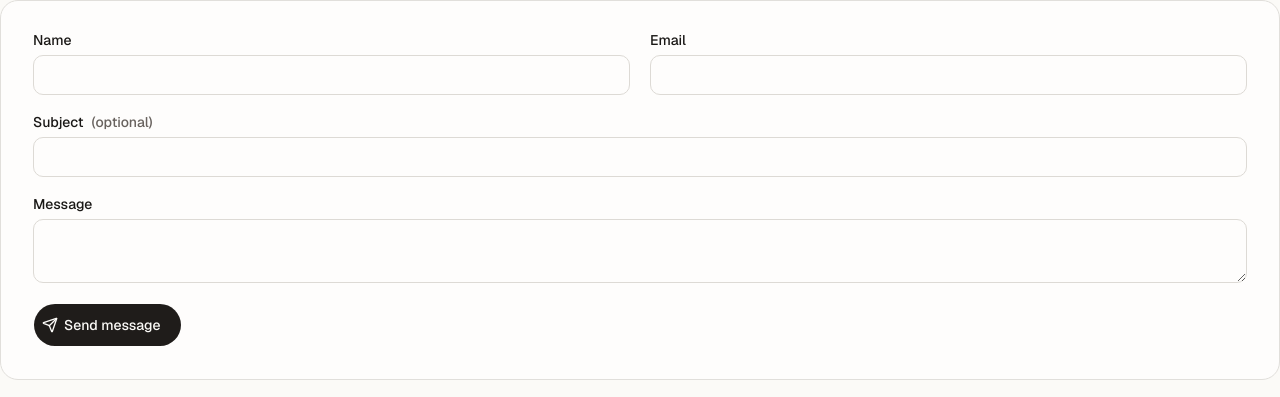
Test: ContactForm › submits valid input with the honeypot and timing fields, then confirms
The image size is (1280, 397).
Type "Jamie Doe" into the field labelled "Name".
click(332, 75); type("Jamie Doe")  # box [33, 55, 630, 95]
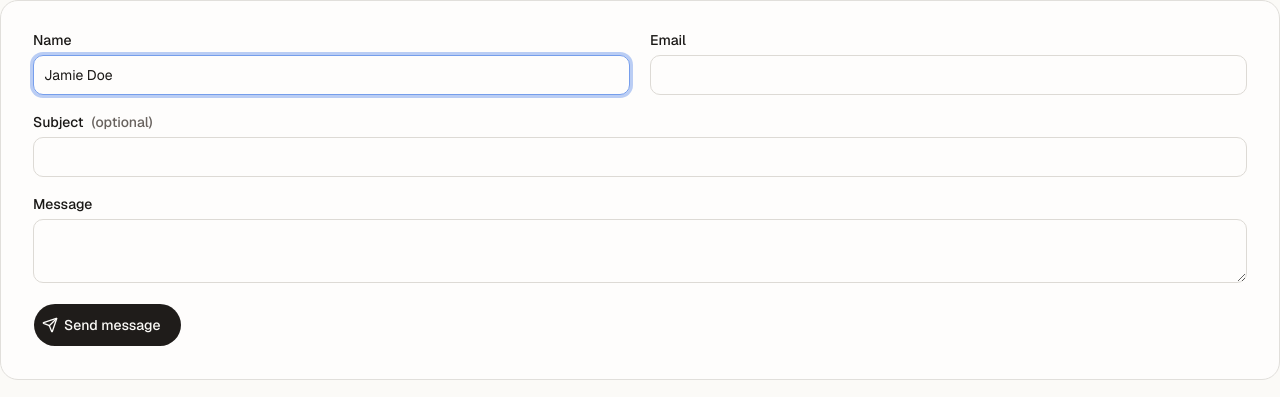
Type "jamie@example.com" into the field labelled "Email".
click(948, 75); type("jamie@example.com")  # box [650, 55, 1247, 95]
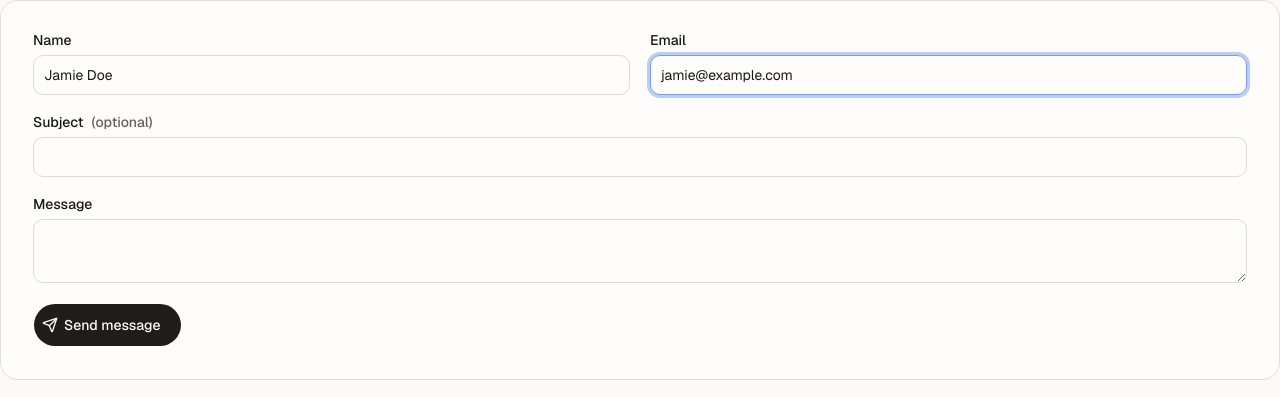
Type "I'd love to work together on a project." into the text box labelled "Message".
click(640, 251); type("I'd love to work together on a project.")  # box [33, 219, 1247, 283]
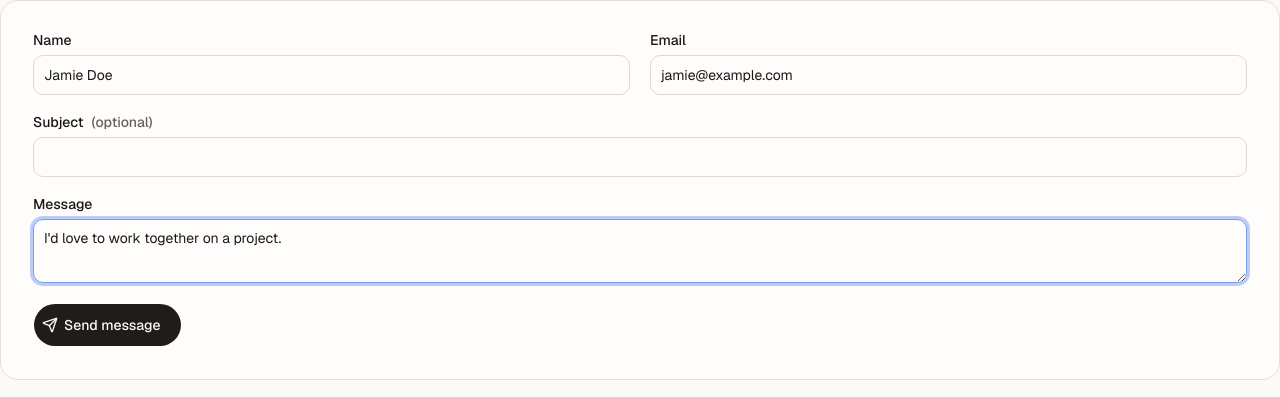
Click the button "Send message".
click(107, 325)  # box [33, 303, 182, 347]
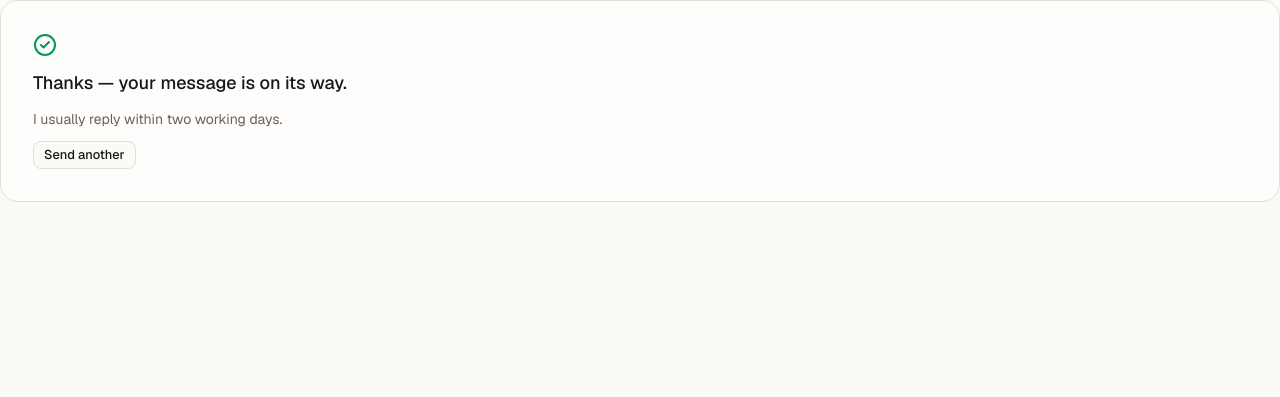
Expected: the text "Thanks — your message is on its way." is shown, [33, 69, 347, 97]
